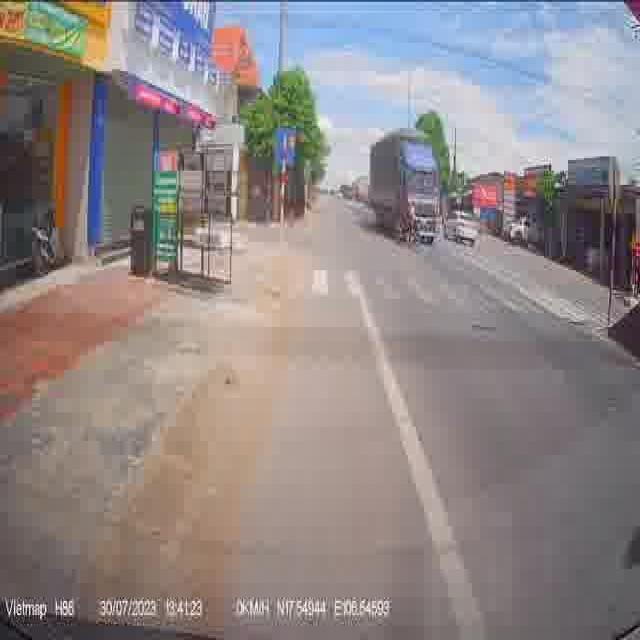multiple_accident: (366, 119, 448, 259)
